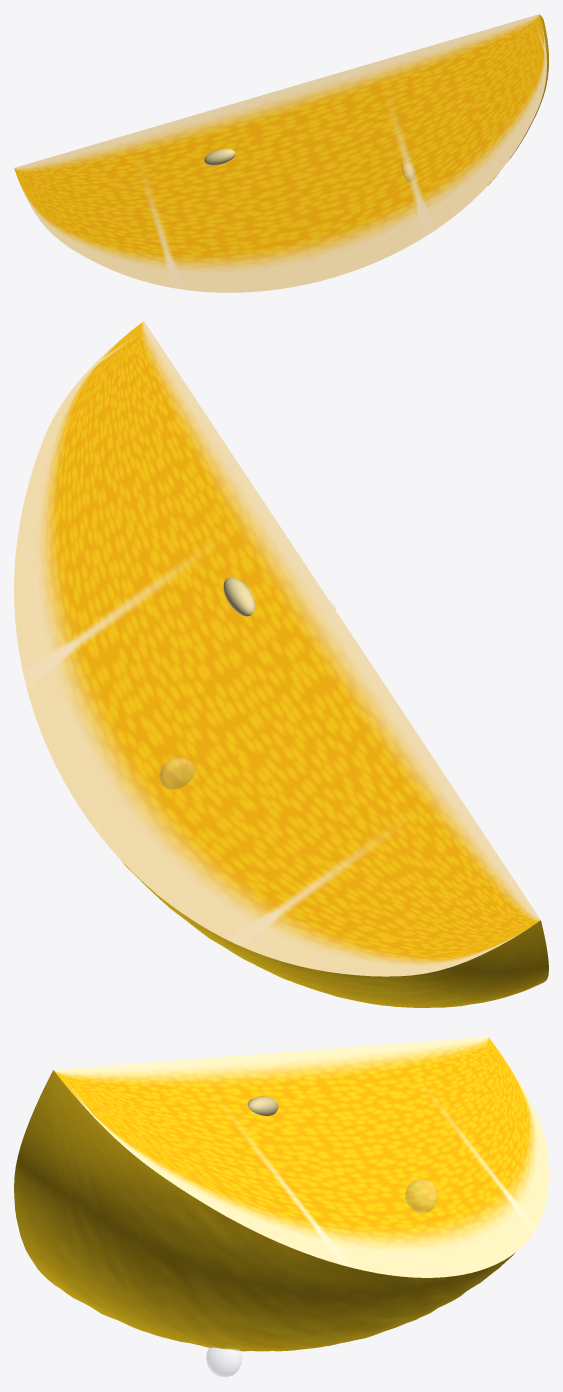
File: lemon-wedge.glb
3 views of the same model, one above another, from view 1: azimuth 30°, elevation 25°; view 2: azimuth 150°, elevation 25°; view 3: azimuth 270°, elevation 25° (orthographic). The views are drawn at different scales.
Parts seen in each view (by area): view 1: lemon-pulp-wedges, lemon-wedge; view 2: lemon-pulp-wedges, lemon-peel-rind, lemon-wedge; view 3: lemon-pulp-wedges, lemon-peel-rind, lemon-wedge.
Boxes of the visible parts, x1=… form: lemon-pulp-wedges: x1=14, y1=14, x2=546, y2=292; lemon-wedge: x1=204, y1=148, x2=414, y2=181; lemon-pulp-wedges: x1=14, y1=321, x2=540, y2=976; lemon-peel-rind: x1=121, y1=860, x2=548, y2=1007; lemon-wedge: x1=159, y1=577, x2=335, y2=789; lemon-pulp-wedges: x1=53, y1=1036, x2=548, y2=1277; lemon-peel-rind: x1=14, y1=1070, x2=515, y2=1351; lemon-wedge: x1=206, y1=1096, x2=436, y2=1377.
Size of the model in its own units: 0.0698 by 0.0437 by 0.0517.
4 materials, 2 textured.
